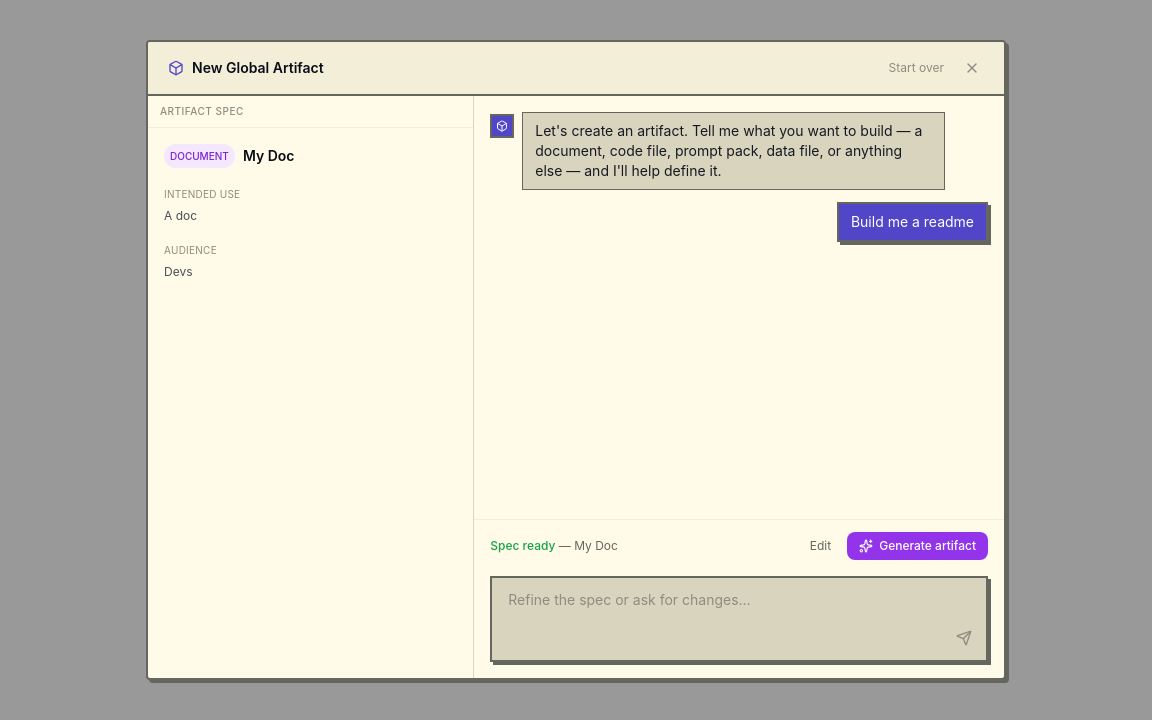
Test: ArtifactGeneratorModal › EditForm Back button returns to spec preview
Expected: the text "Spec ready" is shown, [490,538,555,553]
Click the button "Edit": (820,546) [802,534,839,558]
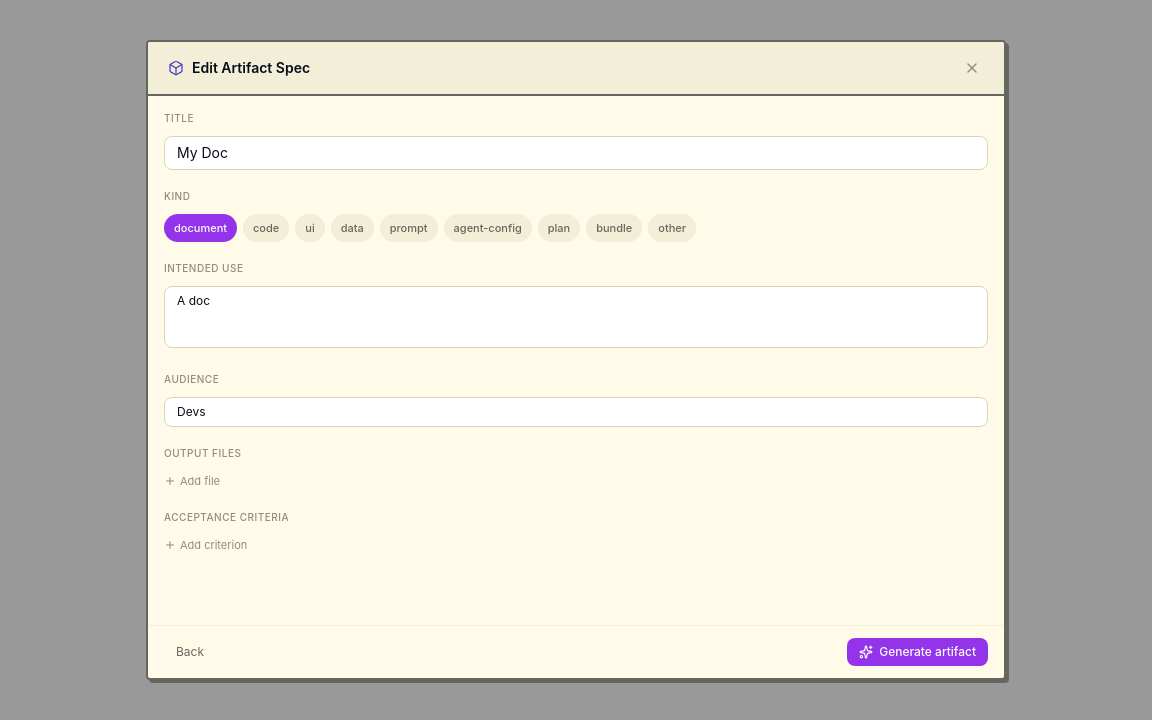
Now the heading "Edit Artifact Spec" is shown, box [192,58,310,78]
Click the button "Back": (190,652) [164,638,216,666]
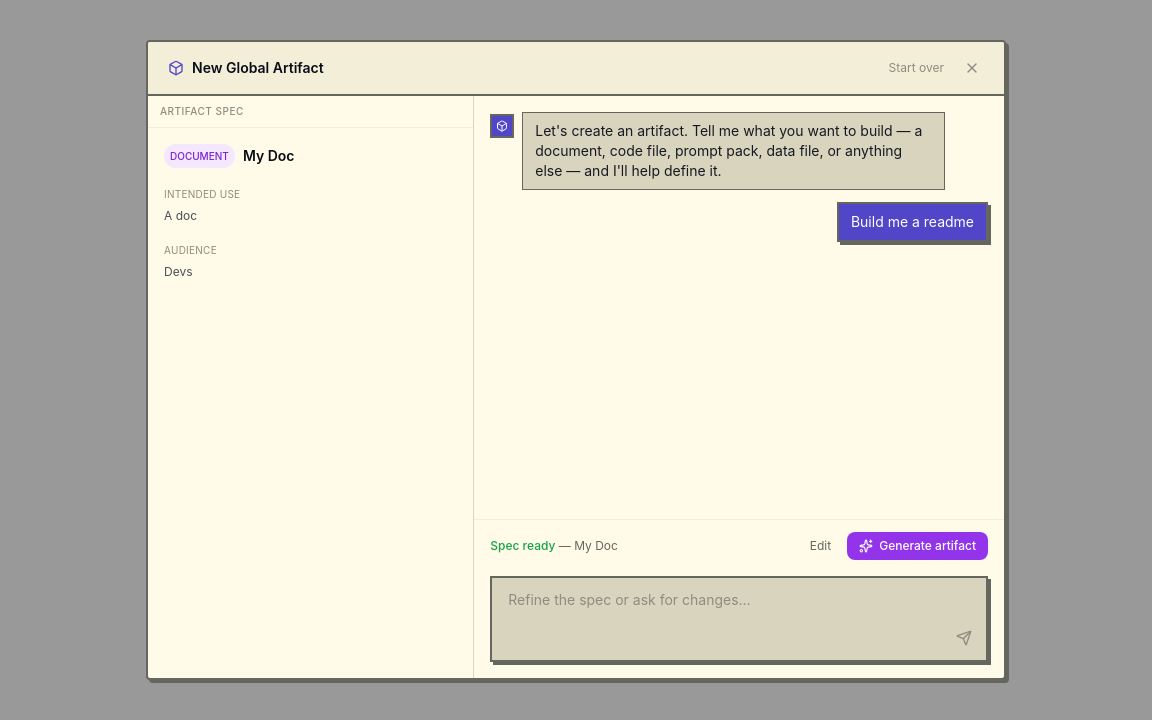
Now the heading "Edit Artifact Spec" is gone
Now the text "Spec ready" is shown, box [490,538,555,553]
